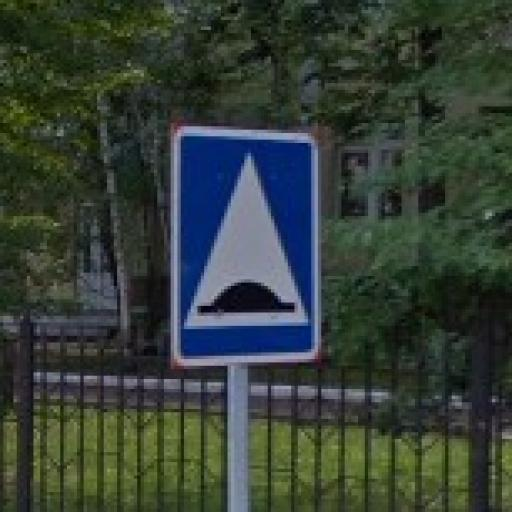traffic_sign: (169, 124, 323, 367)
